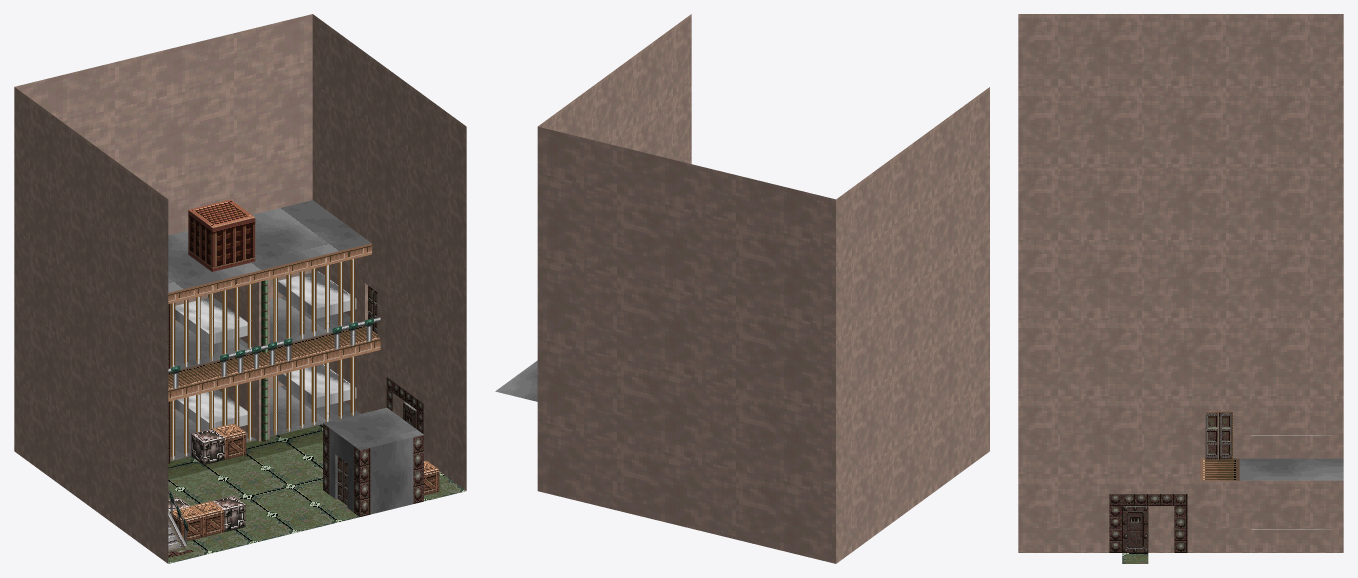
Rendered from Alcatraz.fbx.
The picture shows the model from 3 angles, left to right: view 1: azimuth 30°, elevation 25°; view 2: azimuth 150°, elevation 25°; view 3: azimuth 270°, elevation 25°; orthographic projection. The views are drawn at different scales.
Parts seen in each view (by area): view 1: 060_42EBB43E_c_bmp, 064_28B047FA_c_bmp, 150_40E2D2C7_c_bmp, 128_1B5A4DE6_c_bmp, 062_1B5A4DE6_c_bmp, 006_28465F57_c_bmp, 142_7181E648_c_bmp, 003_1B5A4DE6_c_bmp, 058_42EBB43E_c_bmp, 065_1B5A4DE6_c_bmp, 129_28465F57_c_bmp, 063_250AFEB2_c_bmp (+10 smaller); view 2: 060_42EBB43E_c_bmp, 003_1B5A4DE6_c_bmp; view 3: 060_42EBB43E_c_bmp, 003_1B5A4DE6_c_bmp, 059_250AFEB2_c_bmp, 027_5EEF4842_c_bmp, 006_28465F57_c_bmp, 081_7FD3856A_c_bmp, 082_7FD3856A_c_bmp.
Boxes of the visible parts, bbox=[...] form: 060_42EBB43E_c_bmp: bbox=[14, 14, 466, 563]; 064_28B047FA_c_bmp: bbox=[168, 442, 466, 563]; 150_40E2D2C7_c_bmp: bbox=[170, 258, 355, 459]; 128_1B5A4DE6_c_bmp: bbox=[168, 200, 371, 292]; 062_1B5A4DE6_c_bmp: bbox=[323, 407, 423, 514]; 006_28465F57_c_bmp: bbox=[168, 326, 380, 401]; 142_7181E648_c_bmp: bbox=[188, 210, 255, 271]; 003_1B5A4DE6_c_bmp: bbox=[170, 296, 357, 369]; 058_42EBB43E_c_bmp: bbox=[208, 279, 269, 441]; 065_1B5A4DE6_c_bmp: bbox=[170, 385, 360, 461]; 129_28465F57_c_bmp: bbox=[168, 243, 371, 303]; 063_250AFEB2_c_bmp: bbox=[323, 423, 423, 516]; 060_42EBB43E_c_bmp: bbox=[537, 14, 989, 563]; 003_1B5A4DE6_c_bmp: bbox=[495, 360, 537, 401]; 060_42EBB43E_c_bmp: bbox=[1018, 14, 1343, 552]; 003_1B5A4DE6_c_bmp: bbox=[1239, 458, 1343, 480]; 059_250AFEB2_c_bmp: bbox=[1109, 494, 1187, 552]; 027_5EEF4842_c_bmp: bbox=[1122, 506, 1148, 552]; 006_28465F57_c_bmp: bbox=[1200, 411, 1239, 480]; 081_7FD3856A_c_bmp: bbox=[1205, 412, 1218, 459]; 082_7FD3856A_c_bmp: bbox=[1218, 412, 1231, 459].
Bounding box in the file's own units: 1.6 × 1.63 × 1.25.
Materials: 55 (55 with a texture image).
